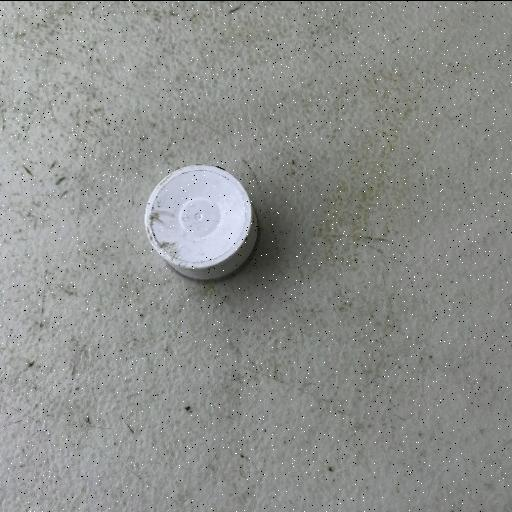Plastic: (142, 162, 261, 284)
